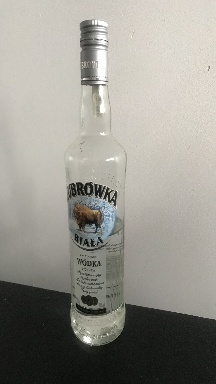butelka: (62, 15, 127, 349)
